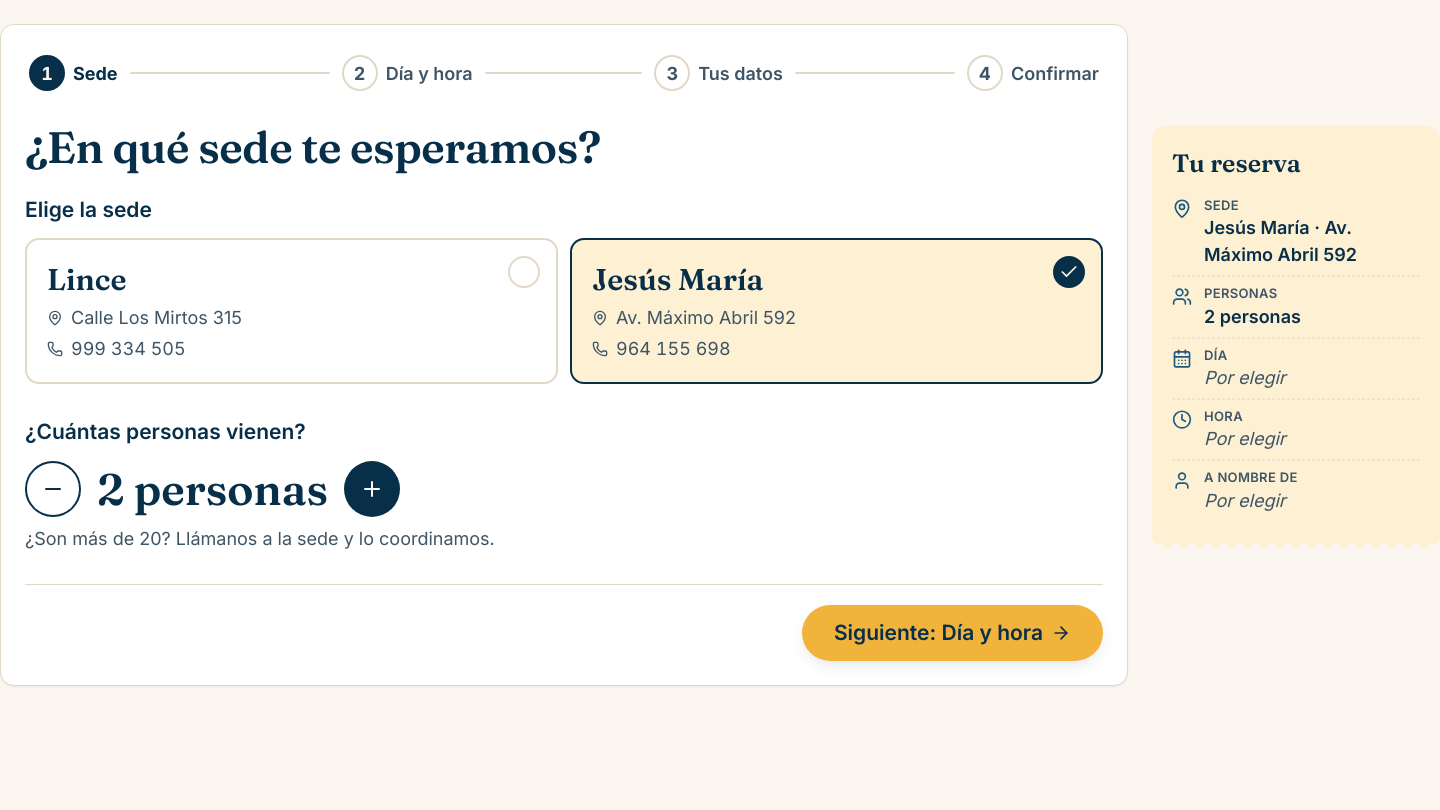
Scenario: ReservationWizard › muestra los horarios llenos como «Lleno» y no se pueden elegir
This screenshot has width=1440, height=810.
Click the button "Siguiente: Día y hora".
click(952, 633)  # box [802,605,1103,661]
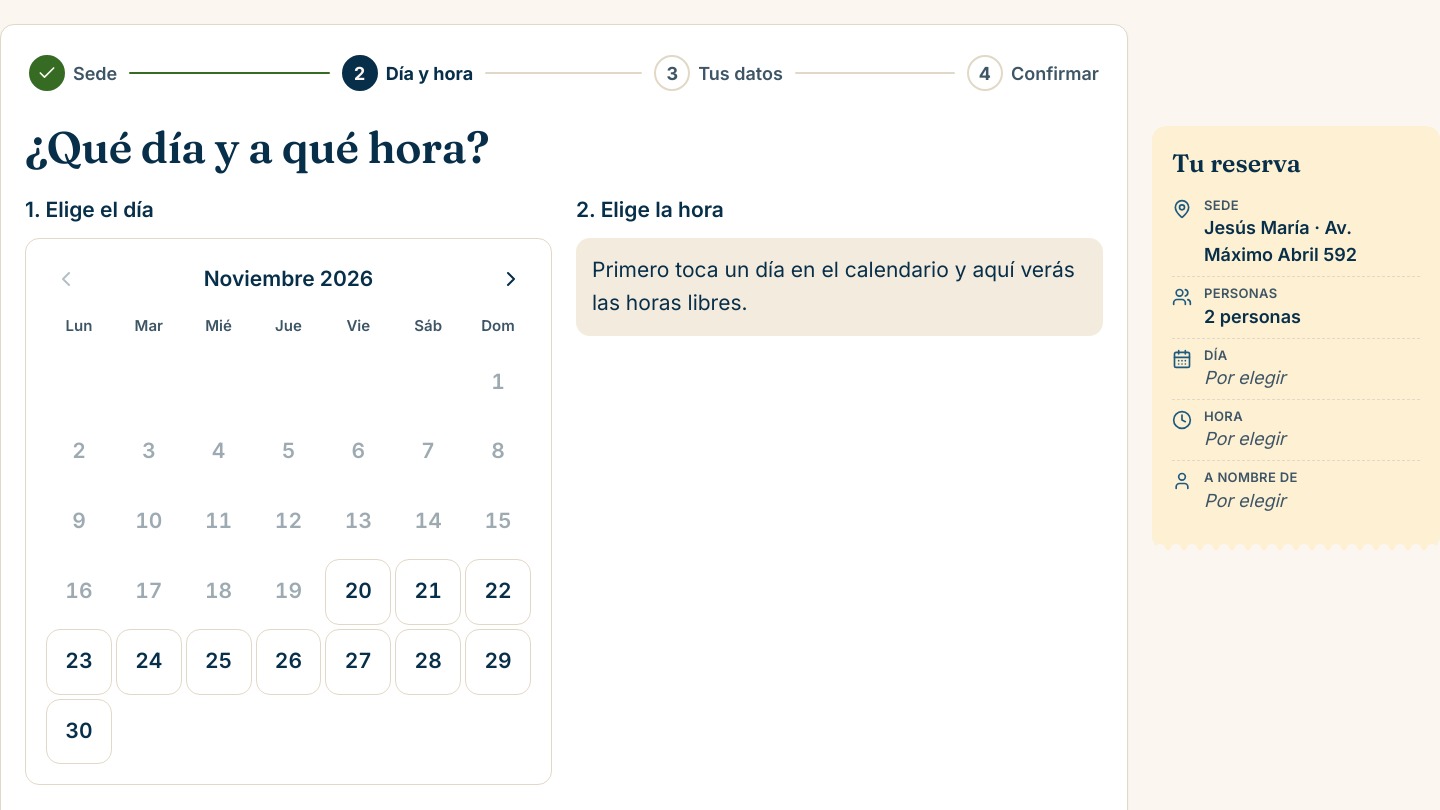
Click the button named "viernes 20 de noviembre".
click(358, 592)  # box [325,559,391,624]
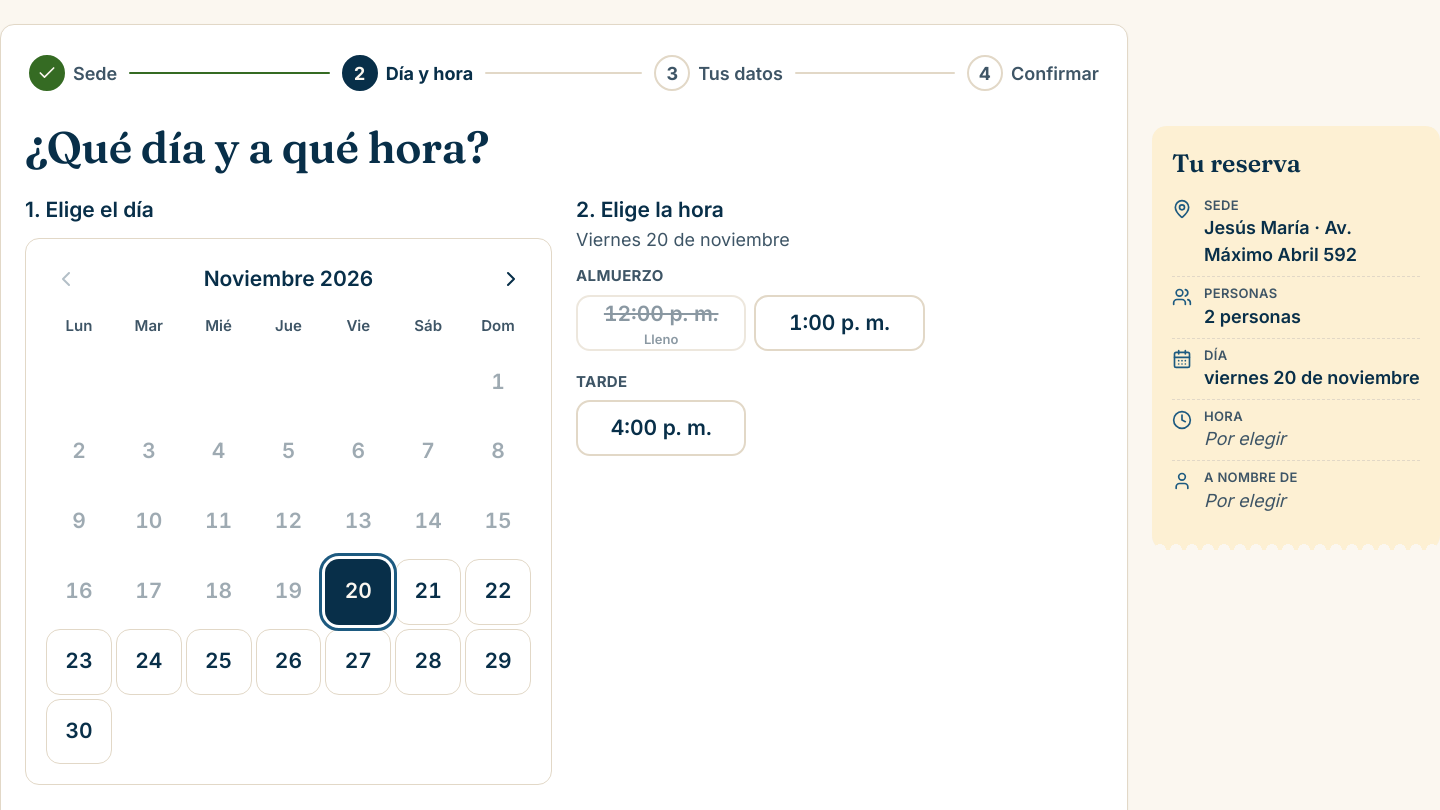
expect the radio button labelled "12:00 p. m. Lleno" is disabled: met, box [576,295,746,351]
expect the text "Lleno" is shown: met, box [644,330,678,348]
